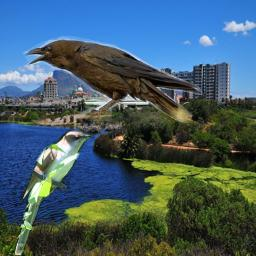Crow: (22, 35, 204, 123)
Cuckoo: (14, 130, 95, 255)
